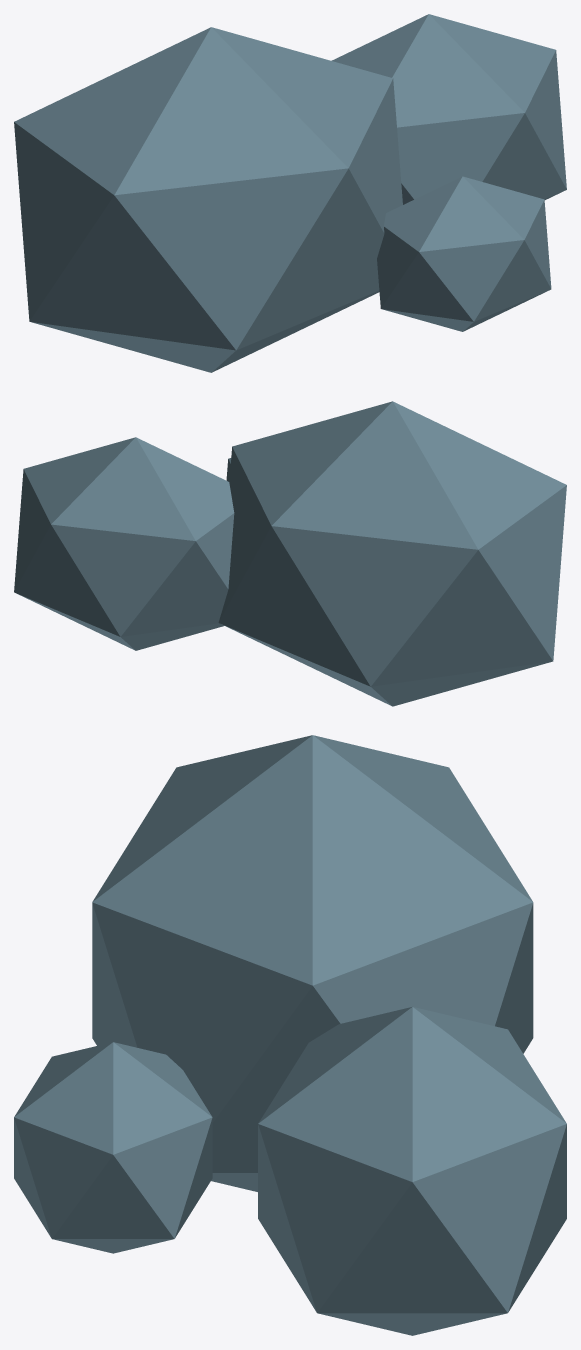
The model's file is RockCluster.fbx.
3 views of the same model, one above another, from view 1: azimuth 30°, elevation 25°; view 2: azimuth 150°, elevation 25°; view 3: azimuth 270°, elevation 25° (orthographic). The views are drawn at different scales.
Visible parts, largest first — view 1: RockCluster_Static; view 2: RockCluster_Static; view 3: RockCluster_Static.
Boxes of the visible parts, box(x1,y1,x2,y2) form: RockCluster_Static: box(14, 14, 566, 372); RockCluster_Static: box(14, 401, 566, 706); RockCluster_Static: box(14, 735, 566, 1335).
Size of the model in its own units: 2.22 by 1.3 by 1.39.
1 material, 1 textured.
